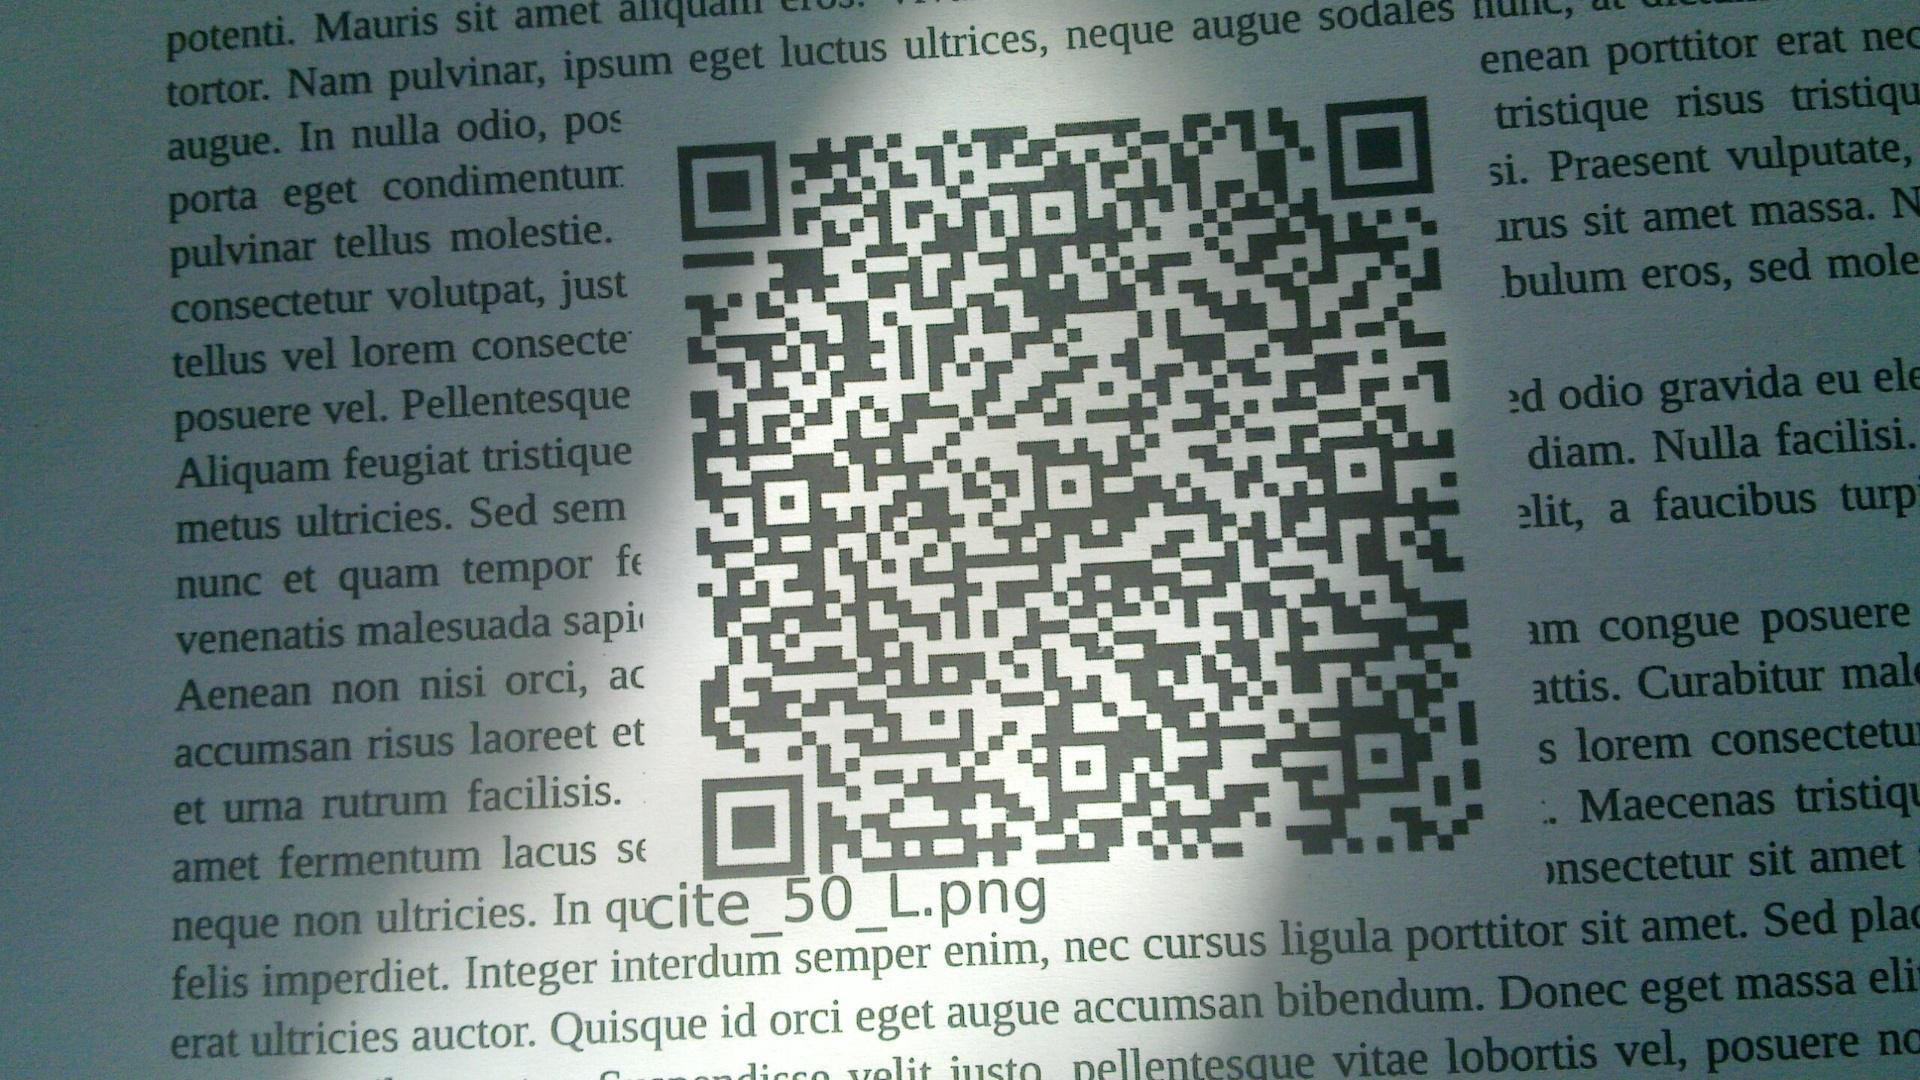Finder pattern: (1317, 91, 1443, 203), (696, 765, 808, 890), (667, 136, 789, 244)
